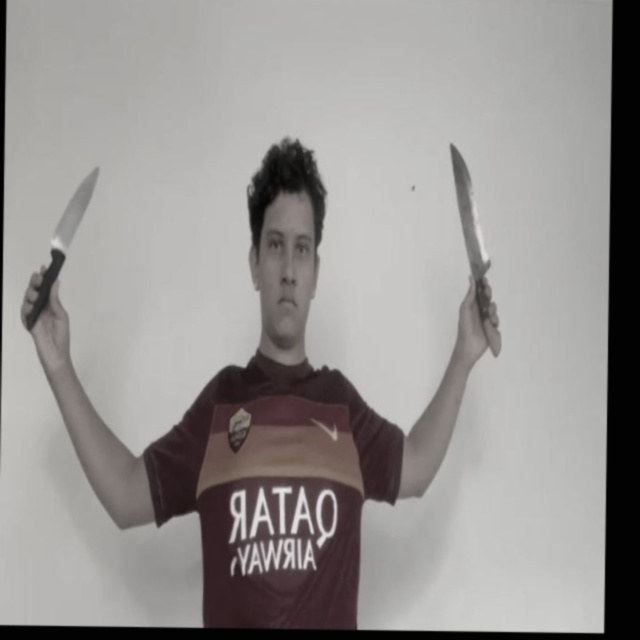Sharp-Object: (448, 143, 492, 276), (52, 162, 100, 253)
